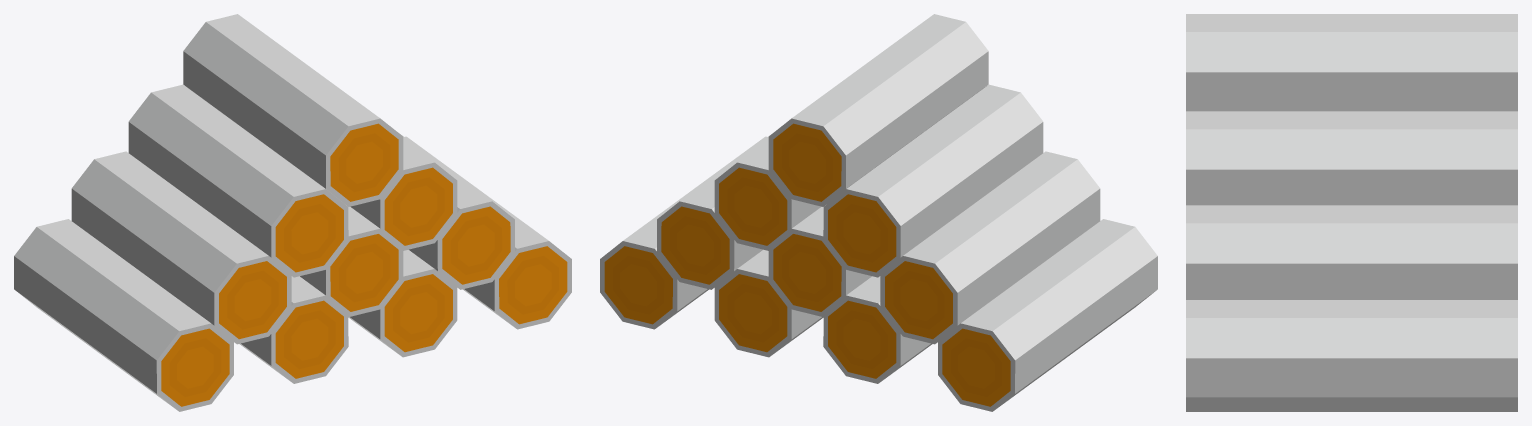
The model's file is Small Log_12.fbx.
The picture shows the model from 3 angles, left to right: view 1: azimuth 30°, elevation 25°; view 2: azimuth 150°, elevation 25°; view 3: azimuth 270°, elevation 25°; orthographic projection. The views are drawn at different scales.
Parts seen in each view (by area): view 1: Circle.252; view 2: Circle.252; view 3: Circle.252.
Boxes of the visible parts, bbox=[...] form: Circle.252: bbox=[14, 14, 571, 411]; Circle.252: bbox=[600, 14, 1157, 411]; Circle.252: bbox=[1186, 14, 1517, 411].
Bounding box in the file's own units: 39.52 × 22.24 × 23.54.
